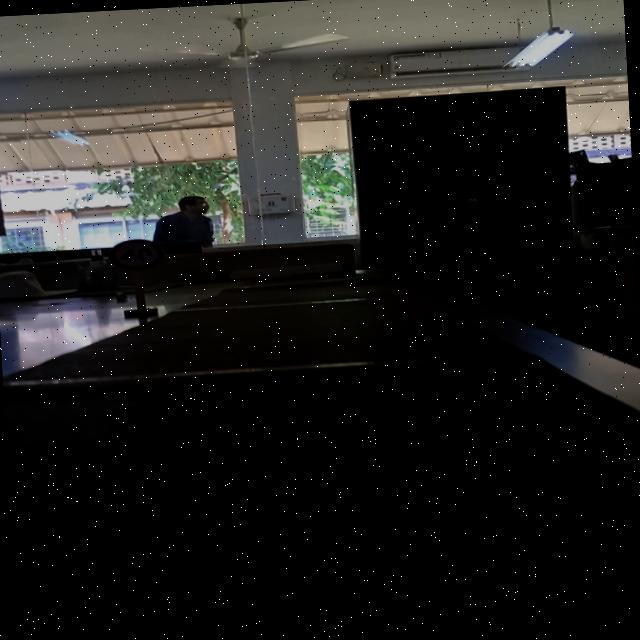Speed40: (106, 236, 169, 274)
